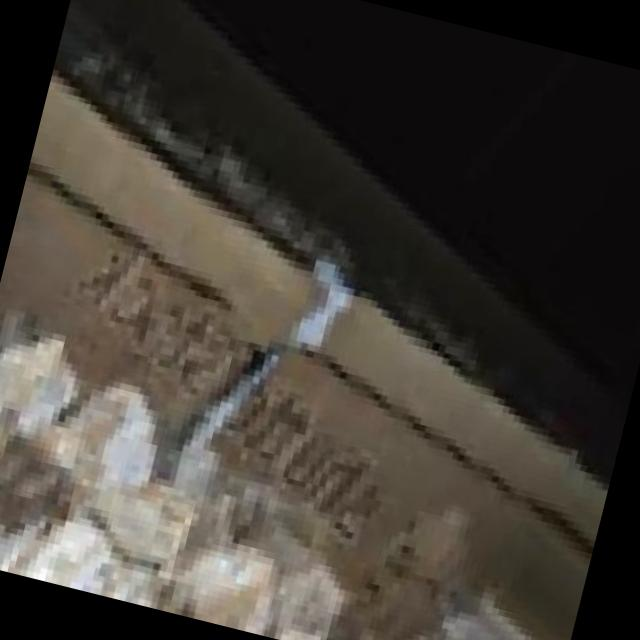defective: (92, 92, 468, 617)
